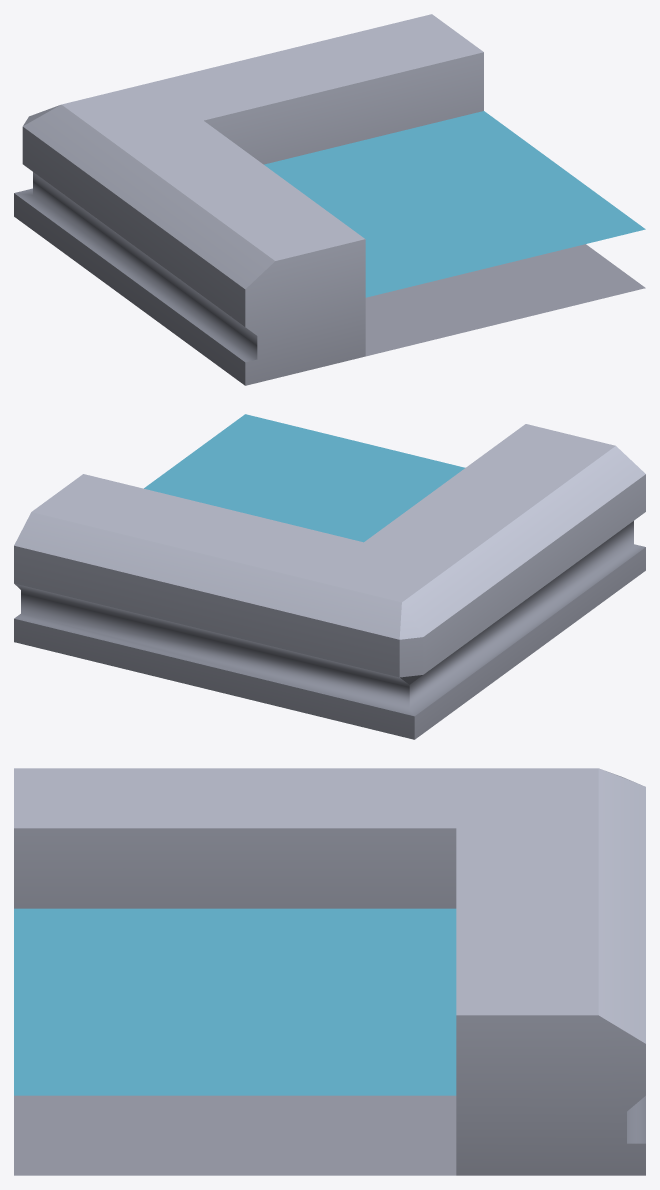
The model's file is fountain-corner.glb.
3 views of the same model, one above another, from view 1: azimuth 30°, elevation 25°; view 2: azimuth 150°, elevation 25°; view 3: azimuth 270°, elevation 25° (orthographic). The views are drawn at different scales.
Visible parts, largest first — view 1: fountain-corner; view 2: fountain-corner; view 3: fountain-corner.
Boxes of the visible parts, x1=… form: fountain-corner: x1=14, y1=14, x2=645, y2=385; fountain-corner: x1=14, y1=414, x2=645, y2=739; fountain-corner: x1=14, y1=768, x2=645, y2=1175.
Bounding box in the file's own units: 1 × 0.28 × 1.
